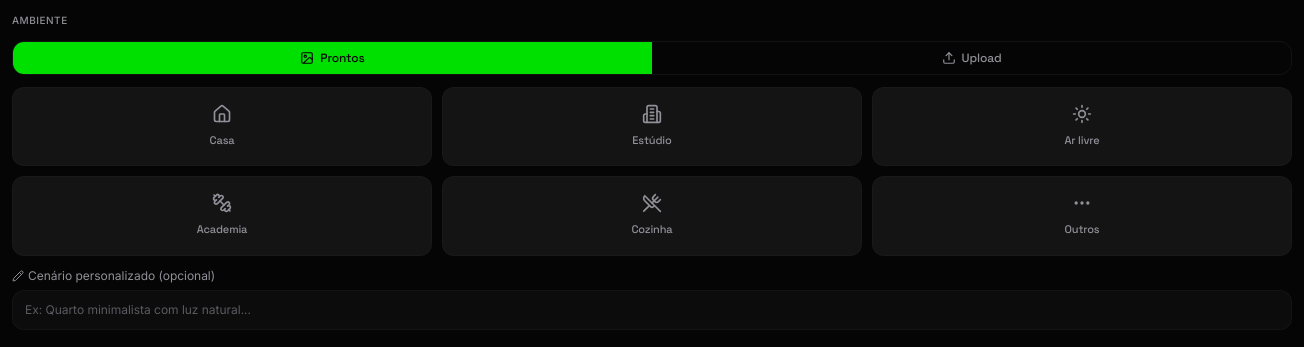
Test: SectionScene › switches between Prontos and Upload tabs
Expected: the text "Casa" is shown, left=210, top=132, right=234, bottom=149
// Click Upload tab
Click the button "Upload" at (972, 58), box left=652, top=42, right=1291, bottom=74
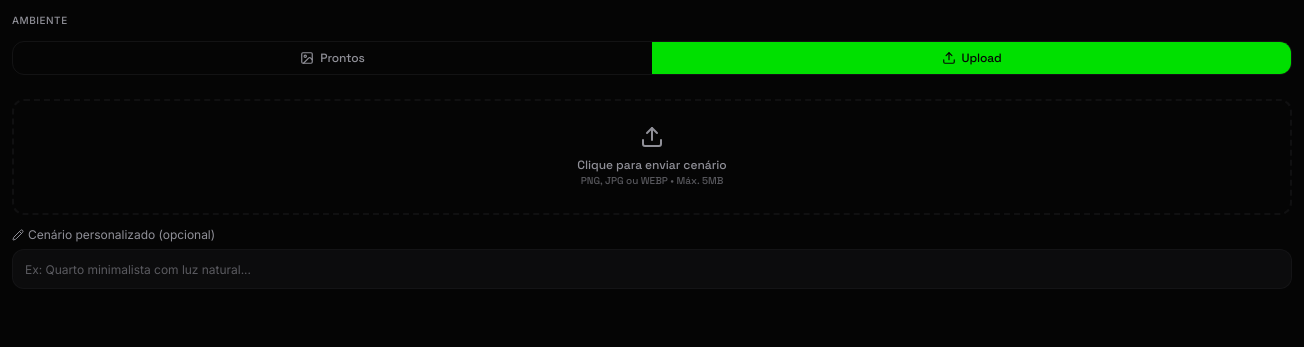
Now the text "Clique para enviar cenário" is shown, box left=577, top=156, right=727, bottom=172
